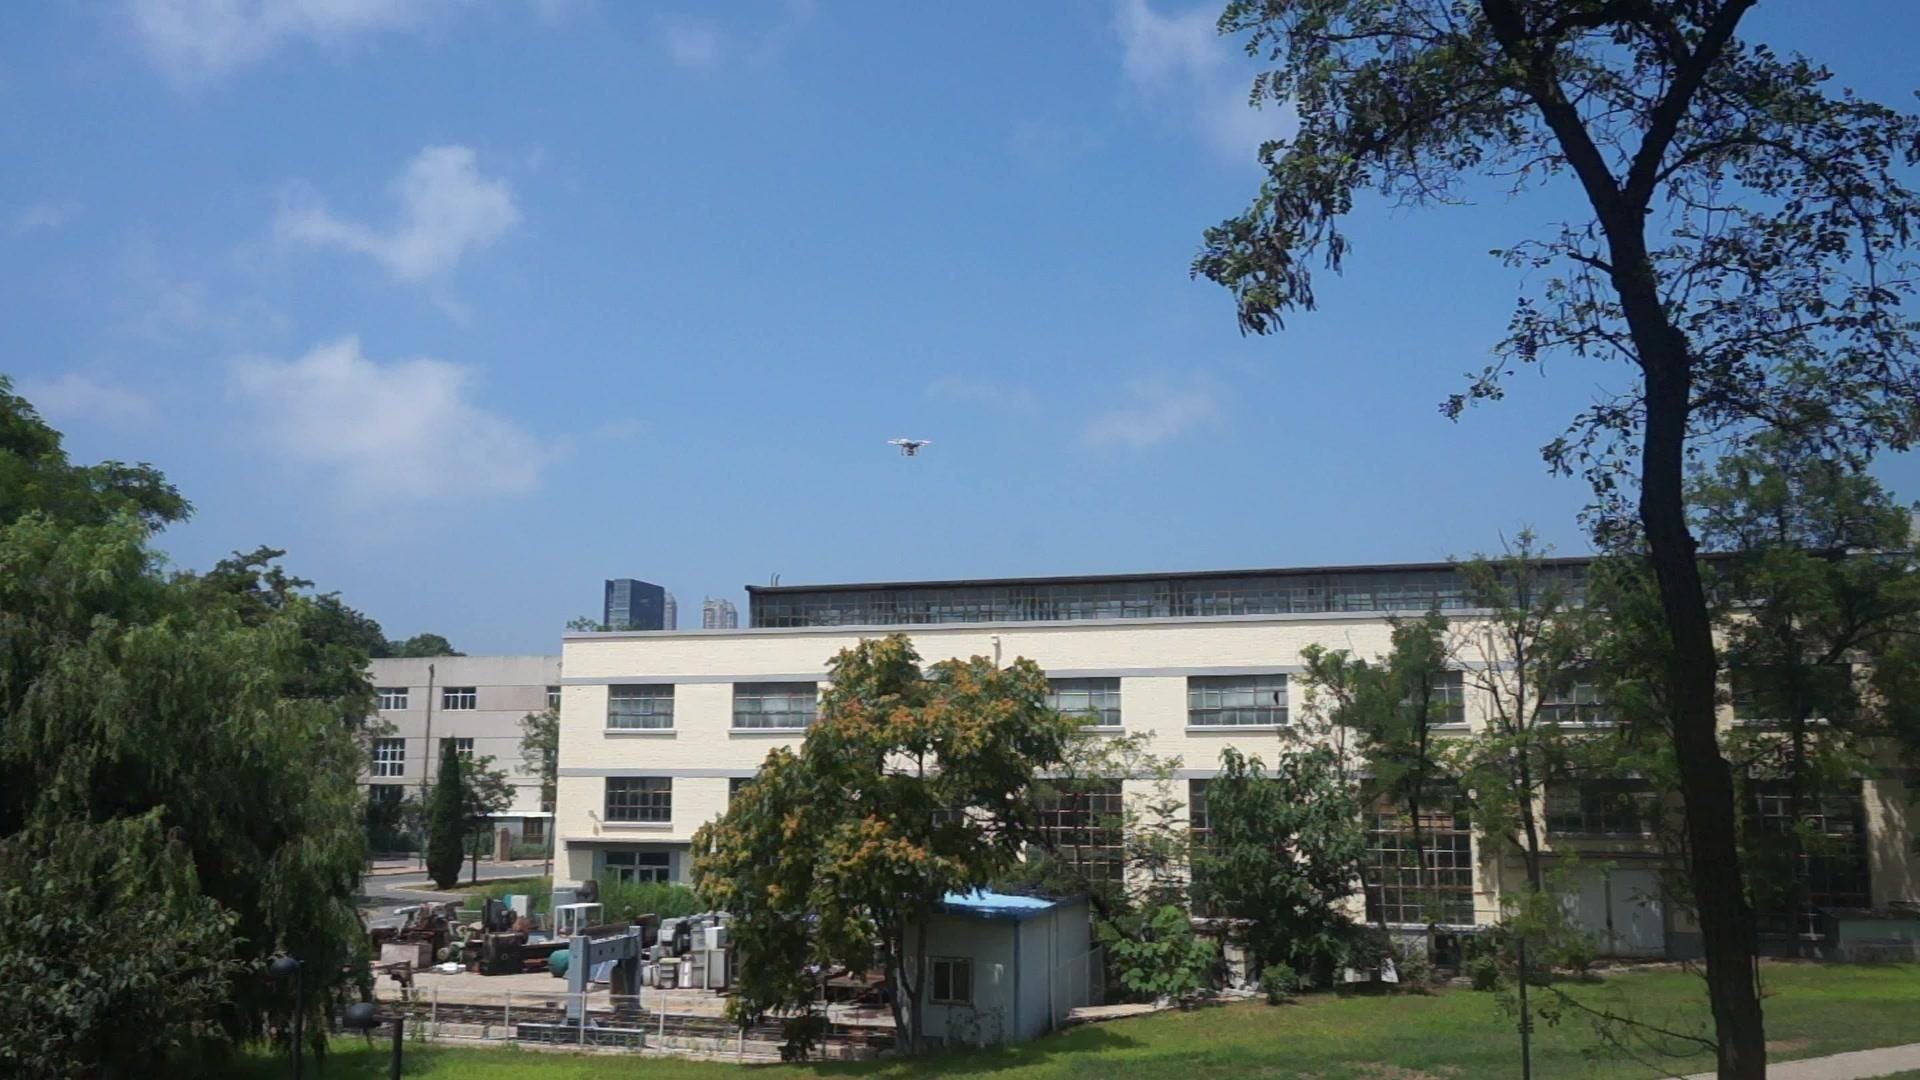UAV: (887, 439, 934, 458)
